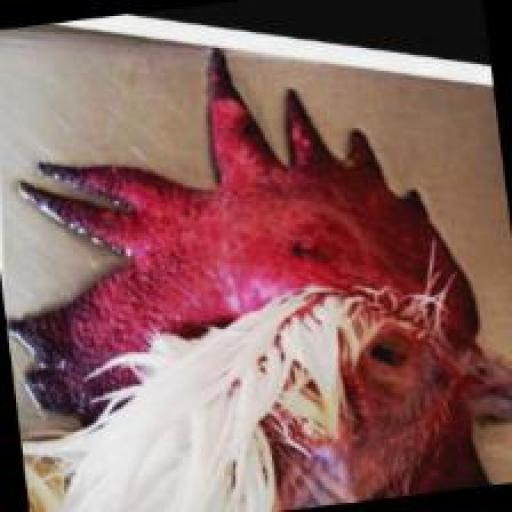disease: (300, 311, 462, 374)
